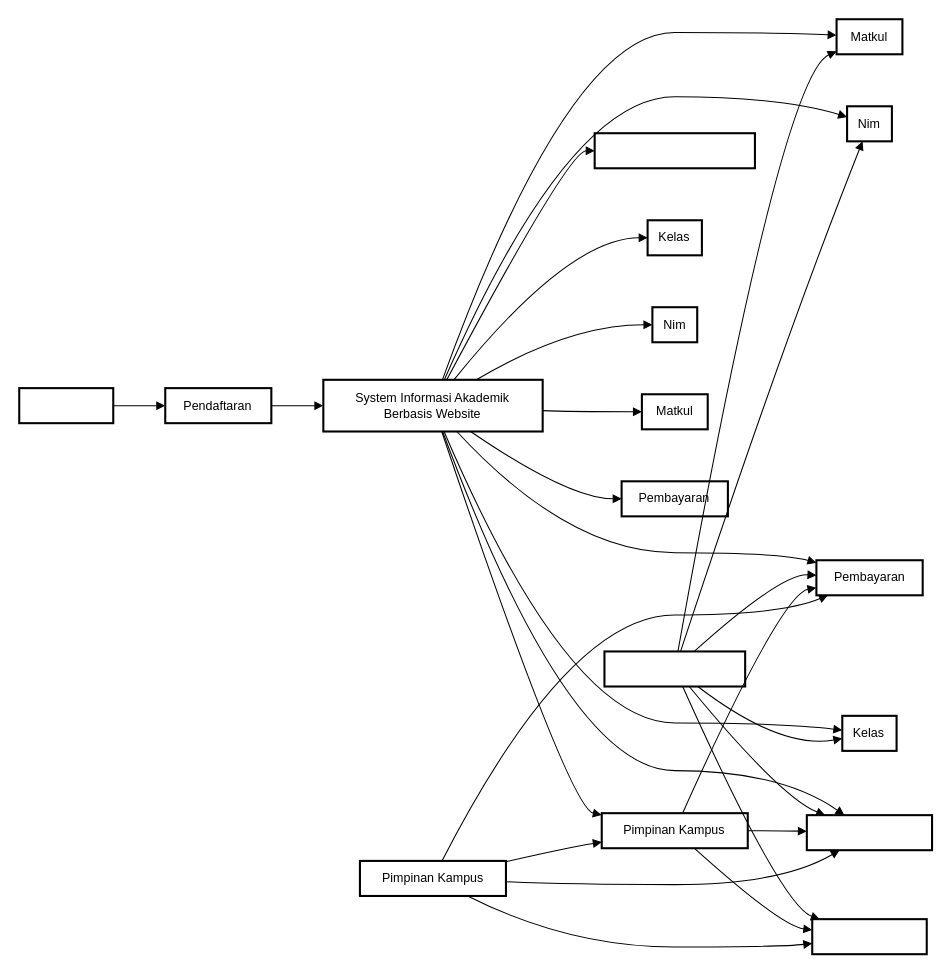
Some shapes in this 951 by 972 pixel diagram are drawn without their labels. Each missing label, with the centre of its shape:
"Data Pengguna" belongs at [869,832].
"Informasi Pengguna" belongs at [674,150].
"Login/Logout" belongs at [869,936].
"Mahasiswa" belongs at [66,405].
"Staf Administrasi" belongs at [674,668].
